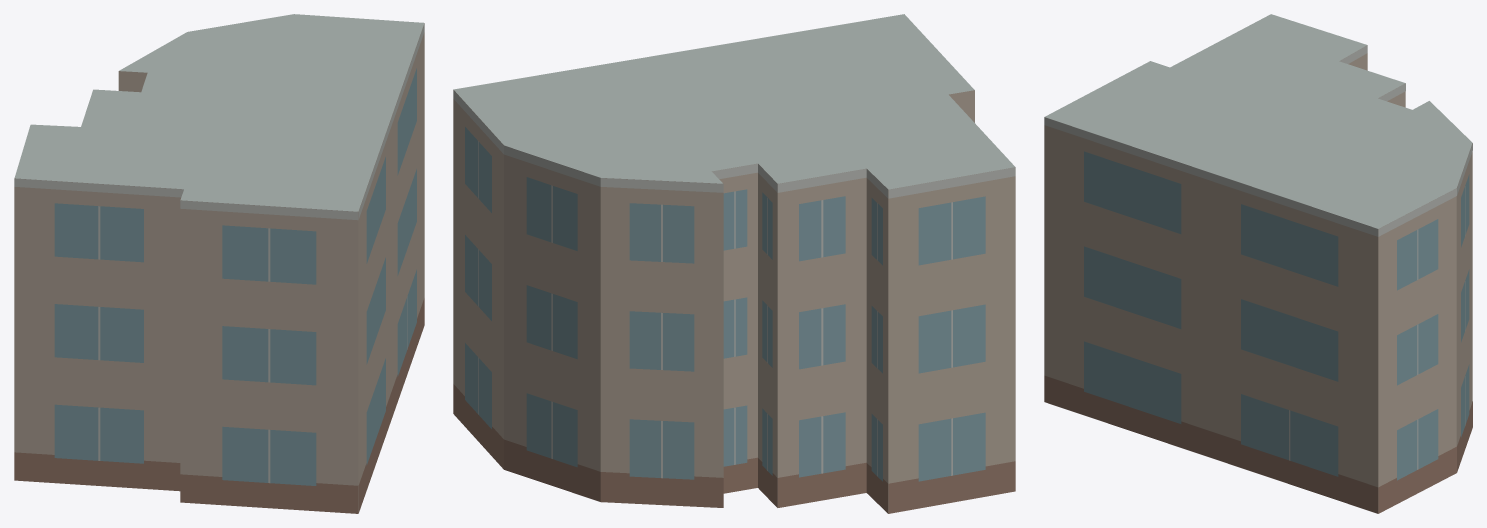
Rendered from survey-upis-32490874.glb.
3 views of the same model, side by side, from view 1: azimuth 30°, elevation 25°; view 2: azimuth 150°, elevation 25°; view 3: azimuth 270°, elevation 25° (orthographic). The views are drawn at different scales.
Parts seen in each view (by area): view 1: survey-upis-32490874.tmp; view 2: survey-upis-32490874.tmp; view 3: survey-upis-32490874.tmp.
Boxes of the visible parts, <box> form: survey-upis-32490874.tmp: <box>14,14,424,513</box>; survey-upis-32490874.tmp: <box>453,14,1015,513</box>; survey-upis-32490874.tmp: <box>1044,14,1472,513</box>.
Size of the model in its own units: 14.12 by 8.72 by 11.89.
